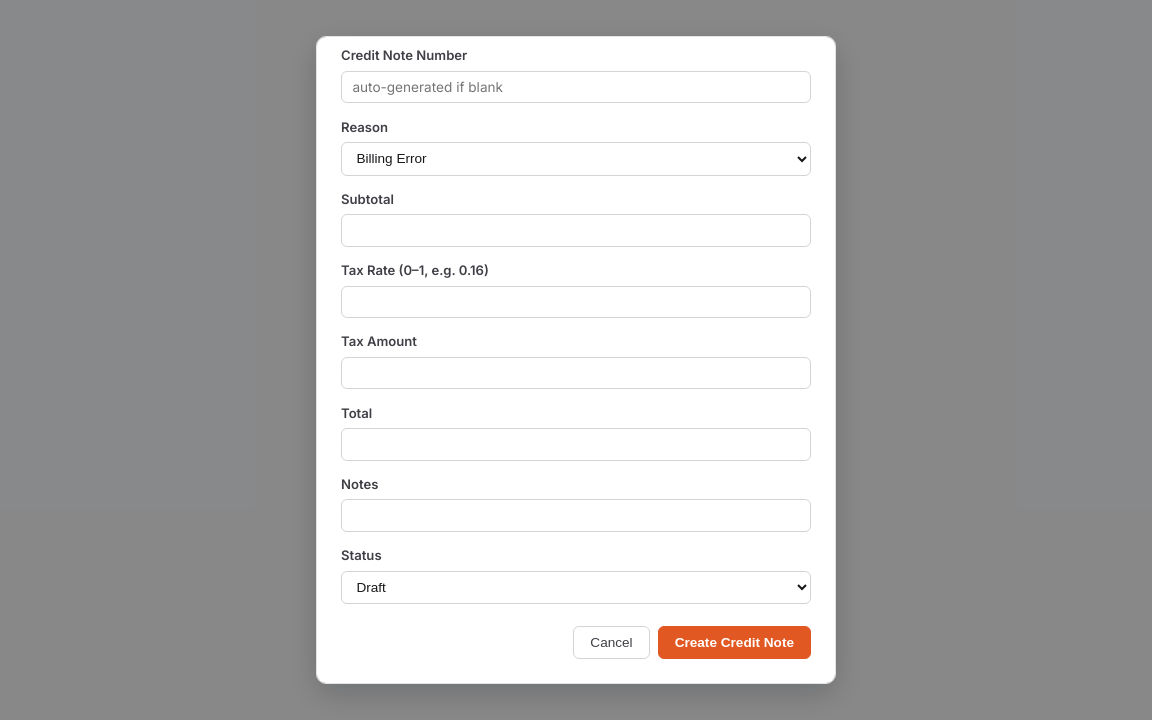
Test: CreditNoteList page › surfaces the backend totals-consistency 422 message in the create modal
(page scrolled)
What coordinates should you click on to do the following:
click the button "Create Credit Note"
I would click on:
 (734, 643)
Its box is top-left (658, 626), bottom-right (811, 659).
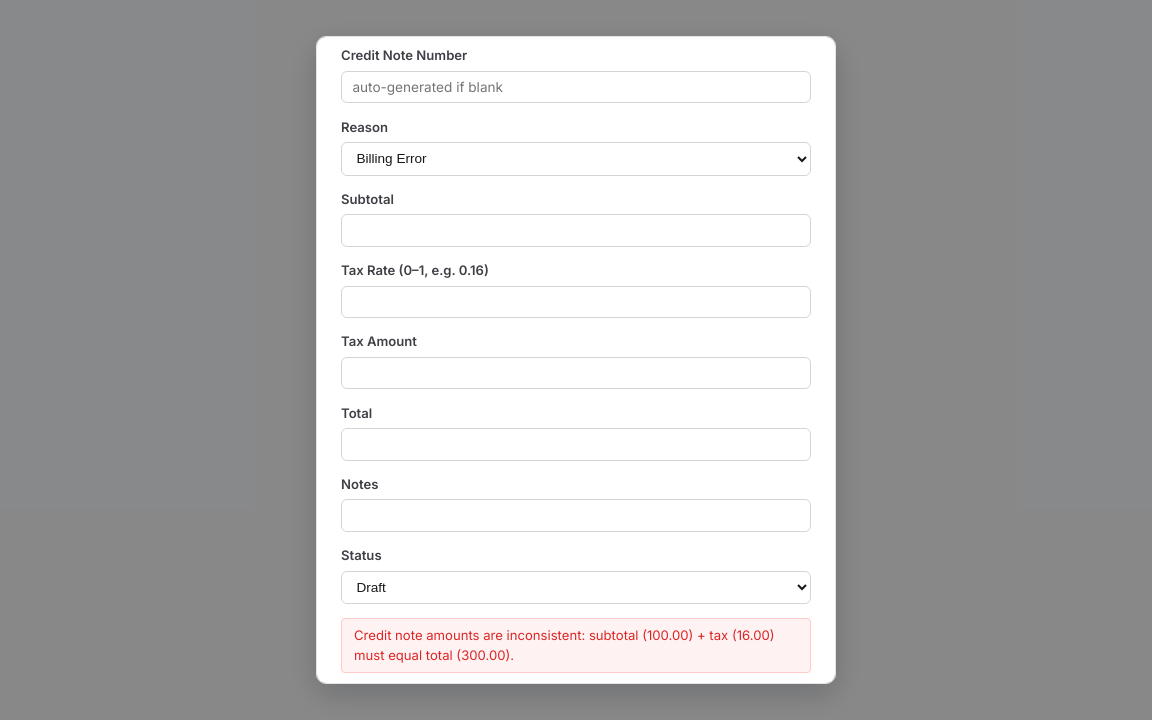
expect the text "must equal total (300.00)" is shown: met, box top-left (354, 627), bottom-right (774, 662)
